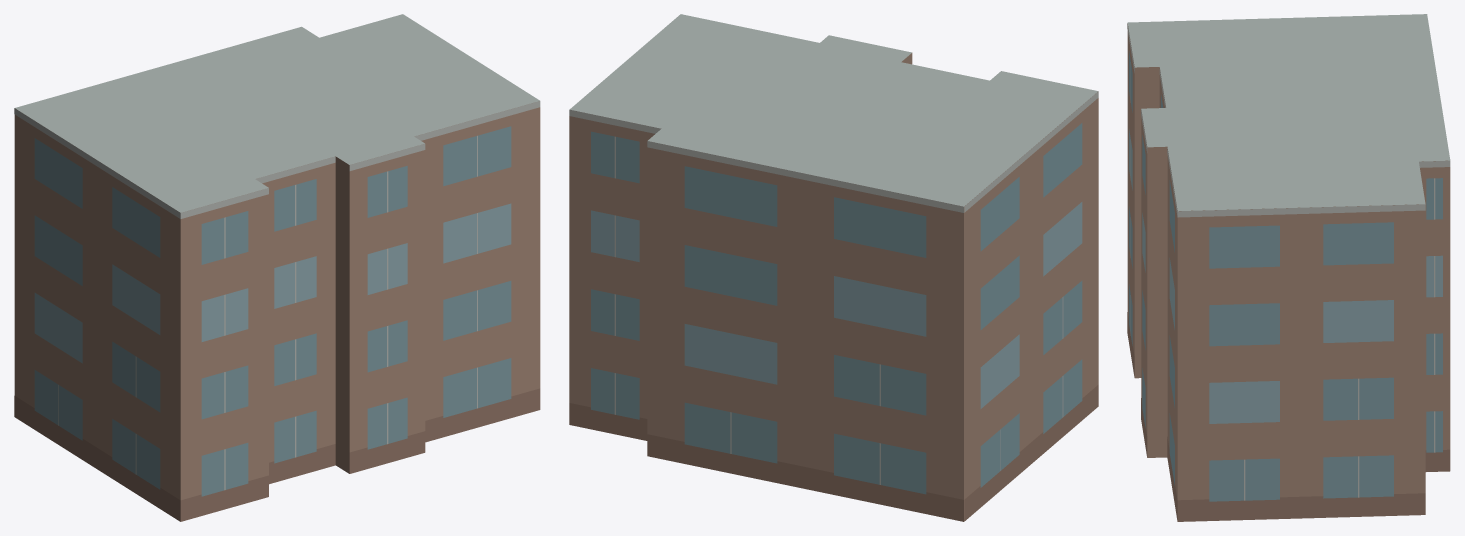
Rendered from survey-upis-32723452.glb.
The picture shows the model from 3 angles, left to right: view 1: azimuth 30°, elevation 25°; view 2: azimuth 150°, elevation 25°; view 3: azimuth 270°, elevation 25°; orthographic projection. The views are drawn at different scales.
Visible parts, largest first — view 1: survey-upis-32723452.tmp; view 2: survey-upis-32723452.tmp; view 3: survey-upis-32723452.tmp.
Boxes of the visible parts, x1=… form: survey-upis-32723452.tmp: x1=14, y1=14, x2=540, y2=521; survey-upis-32723452.tmp: x1=569, y1=14, x2=1098, y2=521; survey-upis-32723452.tmp: x1=1127, y1=14, x2=1450, y2=521.
Size of the model in its own units: 16.27 by 11.95 by 11.26.
